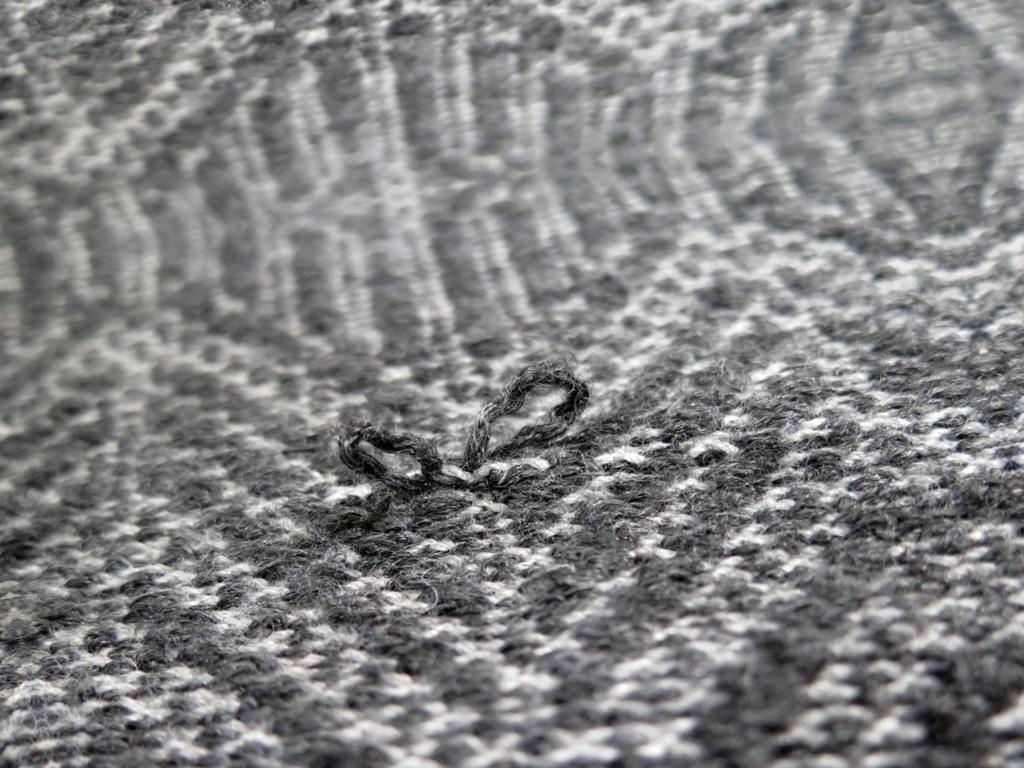snag: (459, 355, 594, 488), (336, 407, 441, 501)
